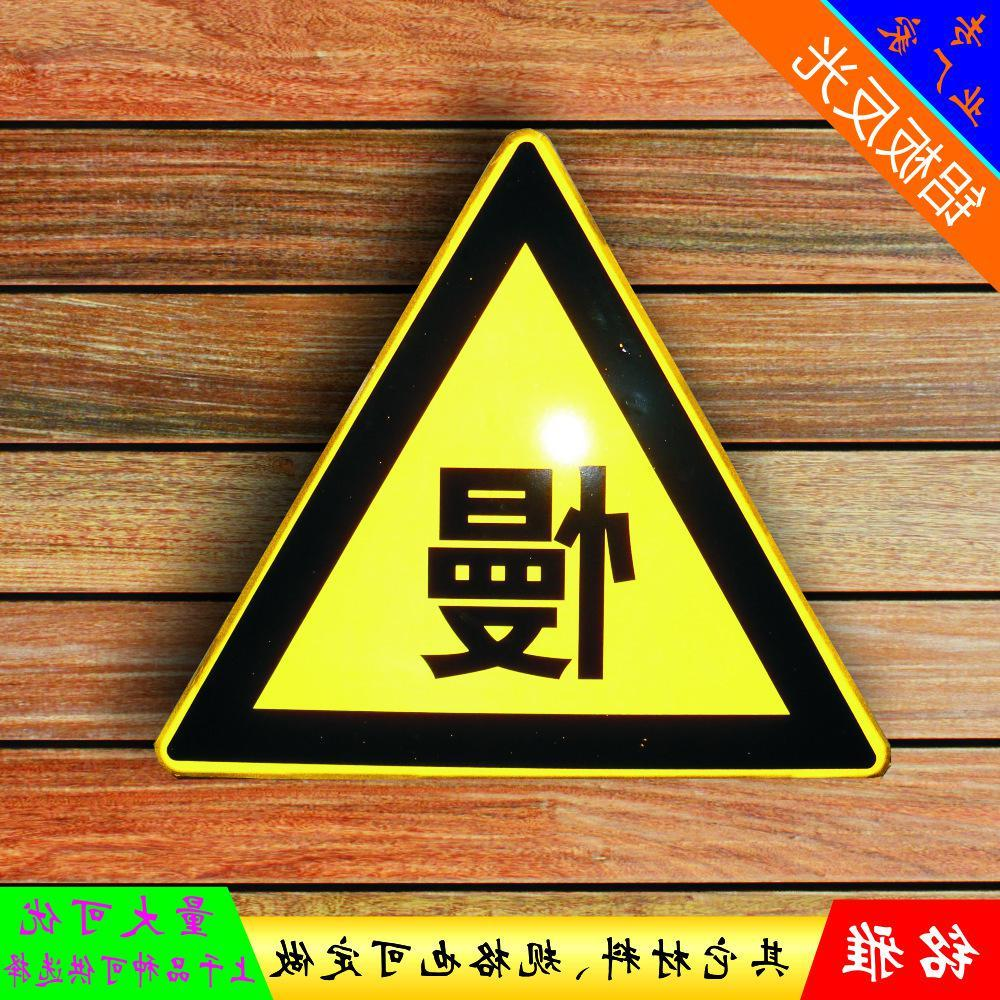sign: (143, 104, 912, 794)
